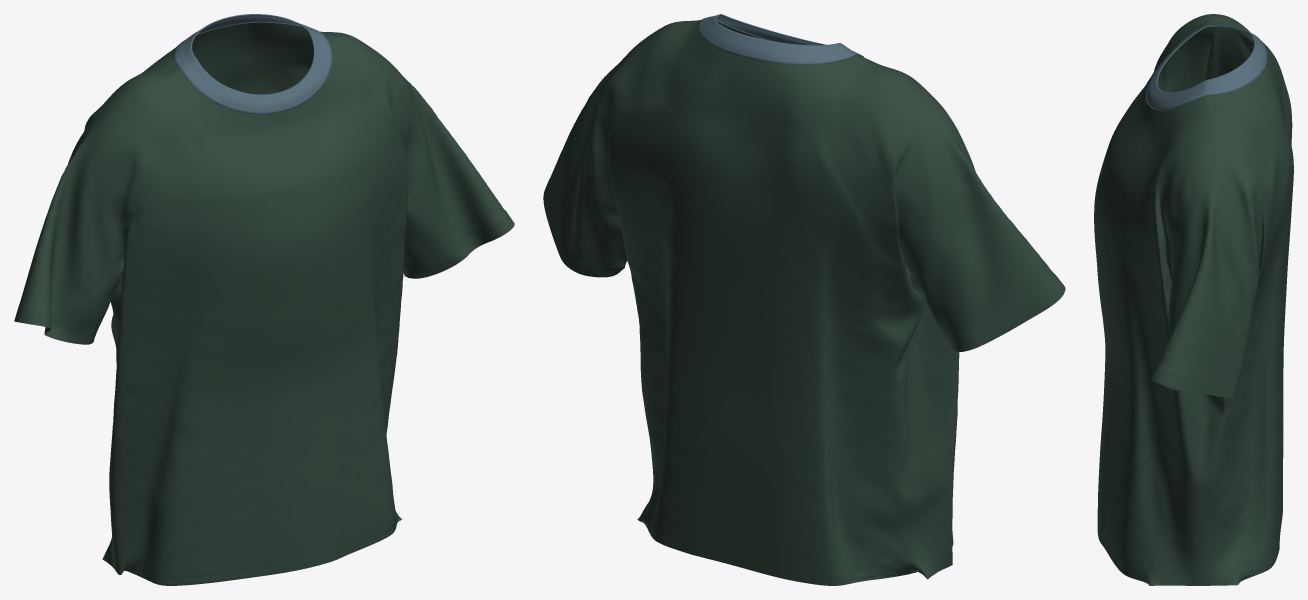
Rendered from tee-studio.glb.
3 renders of one model, left to right at view 1: azimuth 30°, elevation 25°; view 2: azimuth 150°, elevation 25°; view 3: azimuth 270°, elevation 25°, orthographic. The views are drawn at different scales.
Parts seen in each view (by area): view 1: BROCKCREATIVE SHIRT, Refined Studio ribbed collar; view 2: BROCKCREATIVE SHIRT, Refined Studio ribbed collar; view 3: BROCKCREATIVE SHIRT, Refined Studio ribbed collar.
Part boxes in pixels (x1,y1,x2,y2): BROCKCREATIVE SHIRT: (14, 22, 514, 585); Refined Studio ribbed collar: (173, 14, 332, 114); BROCKCREATIVE SHIRT: (543, 20, 1065, 585); Refined Studio ribbed collar: (697, 14, 863, 64); BROCKCREATIVE SHIRT: (1094, 14, 1293, 585); Refined Studio ribbed collar: (1146, 24, 1267, 110).
Bounding box in the file's own units: 1.87 × 1.79 × 0.6701.
